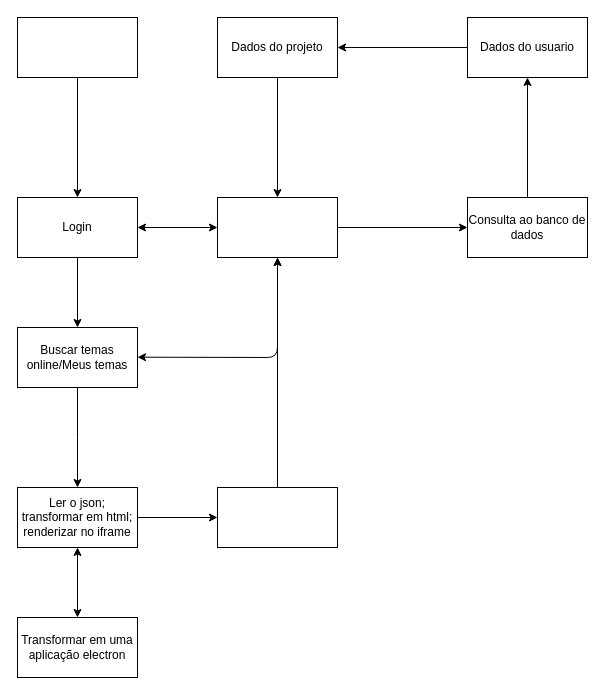
Some shapes in this 605 by 695 pixel diagram are drawn without their labels. The centre of each missing label's shape, as x and y in pixels:
"API" goes at [277,227].
"Interface Web" goes at [77,47].
"salvar" goes at [277,517].
